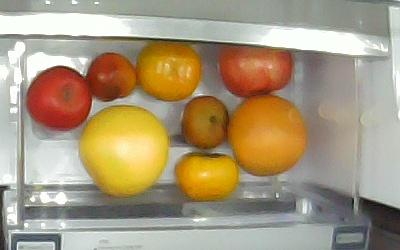apple: (27, 65, 93, 129), (218, 43, 294, 96)
grapefruit: (78, 105, 169, 196), (228, 95, 307, 177)
persimmon: (135, 42, 202, 100), (174, 151, 238, 201)
prune: (86, 51, 136, 101), (181, 96, 228, 147)
